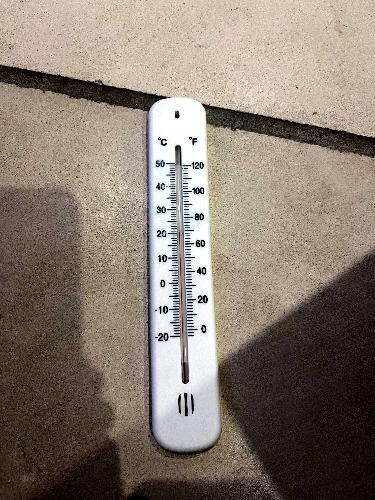thermo: (147, 97, 223, 458)
